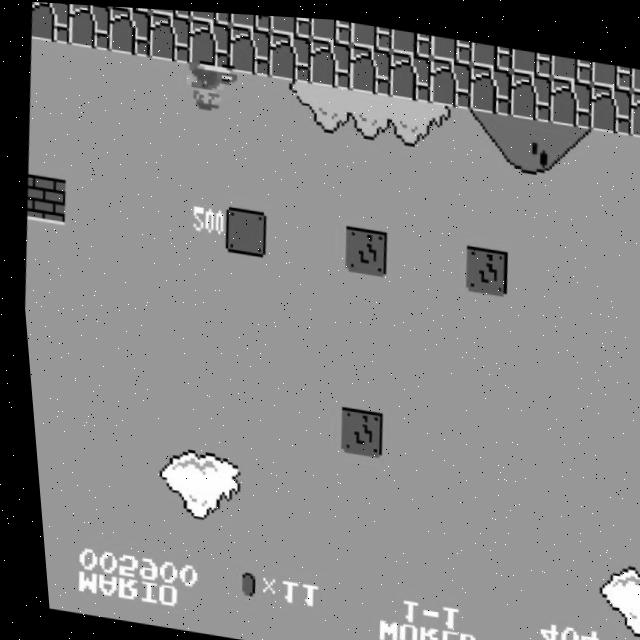1- brick_block: (20, 173, 65, 225)
11- little_mario: (178, 58, 229, 113)
13- mystery_block: (337, 221, 386, 273), (458, 239, 507, 291), (330, 403, 379, 454)
17- undestructible_block: (184, 16, 234, 68), (264, 28, 314, 80), (144, 10, 193, 62), (225, 22, 274, 74), (305, 34, 354, 86), (345, 40, 394, 92), (385, 46, 434, 98), (425, 52, 474, 104), (465, 58, 514, 110), (505, 64, 554, 116), (545, 70, 594, 122), (585, 76, 634, 128), (104, 5, 153, 55), (64, 3, 113, 49), (28, 1, 73, 43), (348, 18, 393, 47), (388, 24, 433, 53), (428, 30, 473, 59), (468, 36, 513, 65), (548, 48, 593, 77), (509, 42, 553, 71), (589, 54, 633, 83), (308, 14, 353, 40), (268, 12, 312, 34), (624, 82, 640, 133), (229, 11, 273, 29), (189, 9, 233, 23), (149, 7, 192, 16), (628, 60, 640, 88)
3- empty_block: (217, 203, 266, 255)
